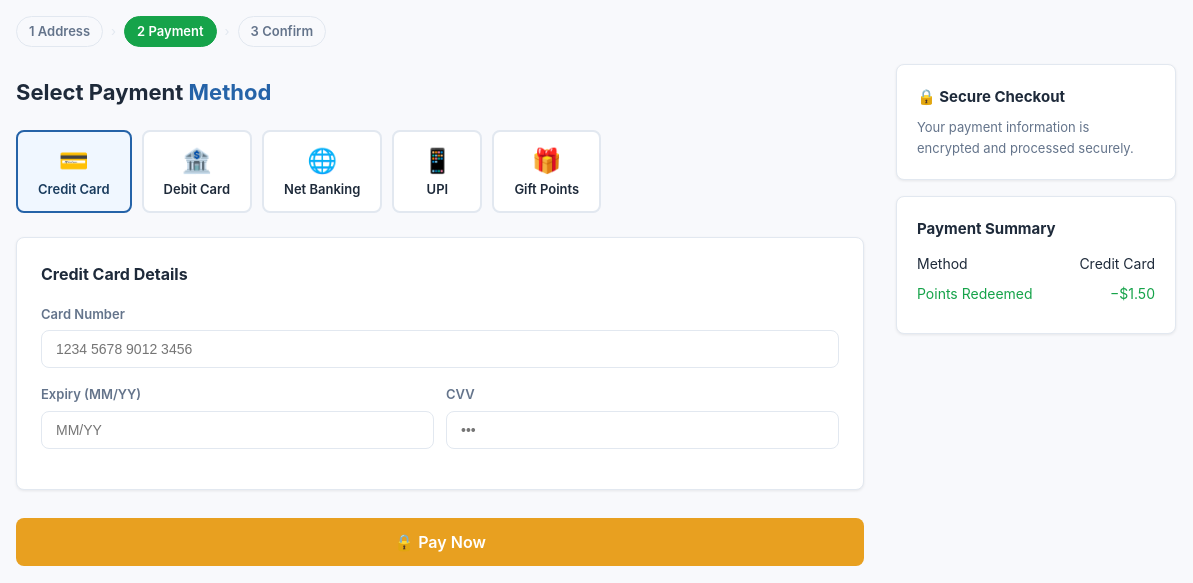
Test: PaymentPage › shows the points discount in the summary and gift-point form
Click the button "🎁 Gift Points" at (547, 172), box x1=492 y1=130 x2=601 y2=213
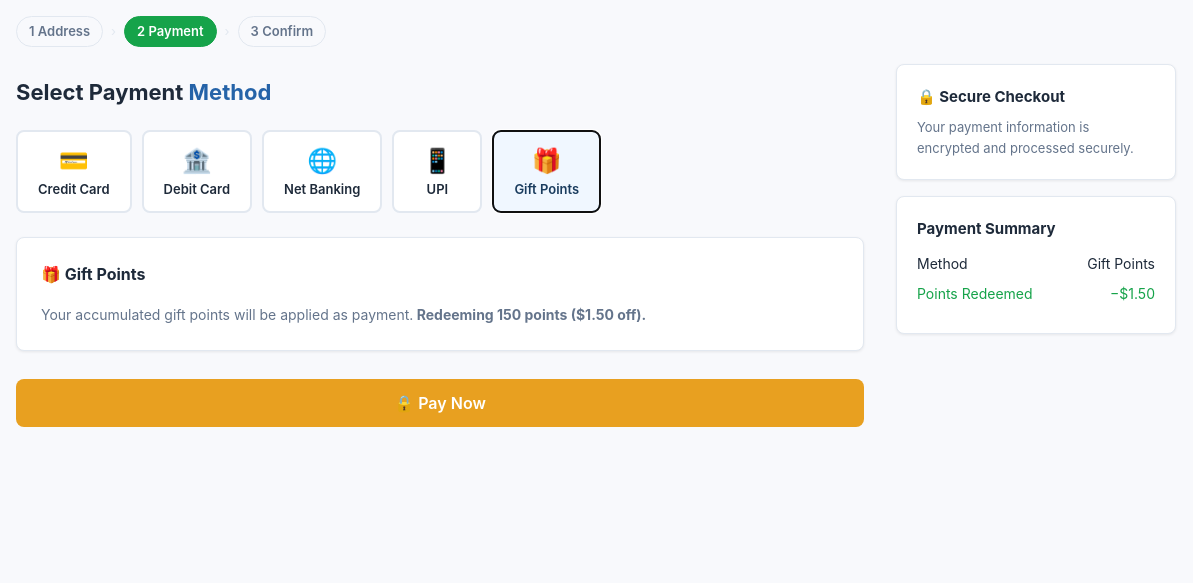
Now the text "Redeeming 150 points ($1.50 off)." is shown, box x1=413 y1=306 x2=646 y2=323
